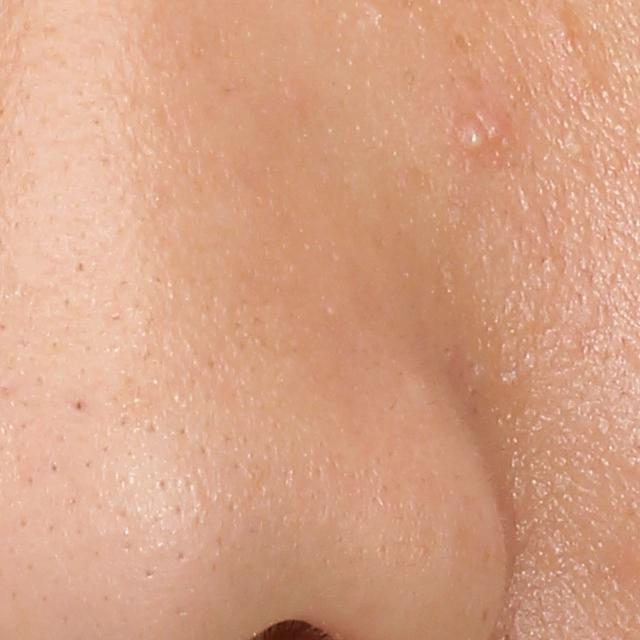comedo: (69, 392, 94, 417)
pustule: (452, 111, 496, 156)
